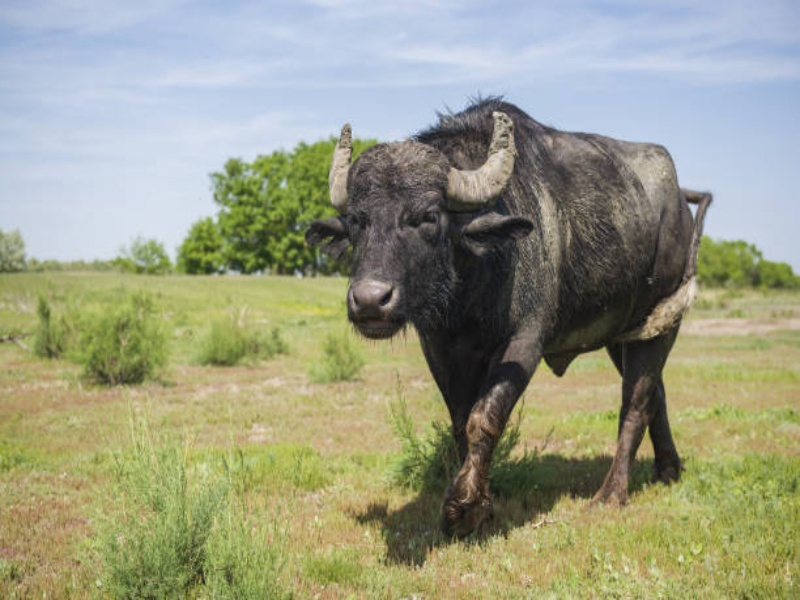buffalo: (323, 92, 717, 534)
